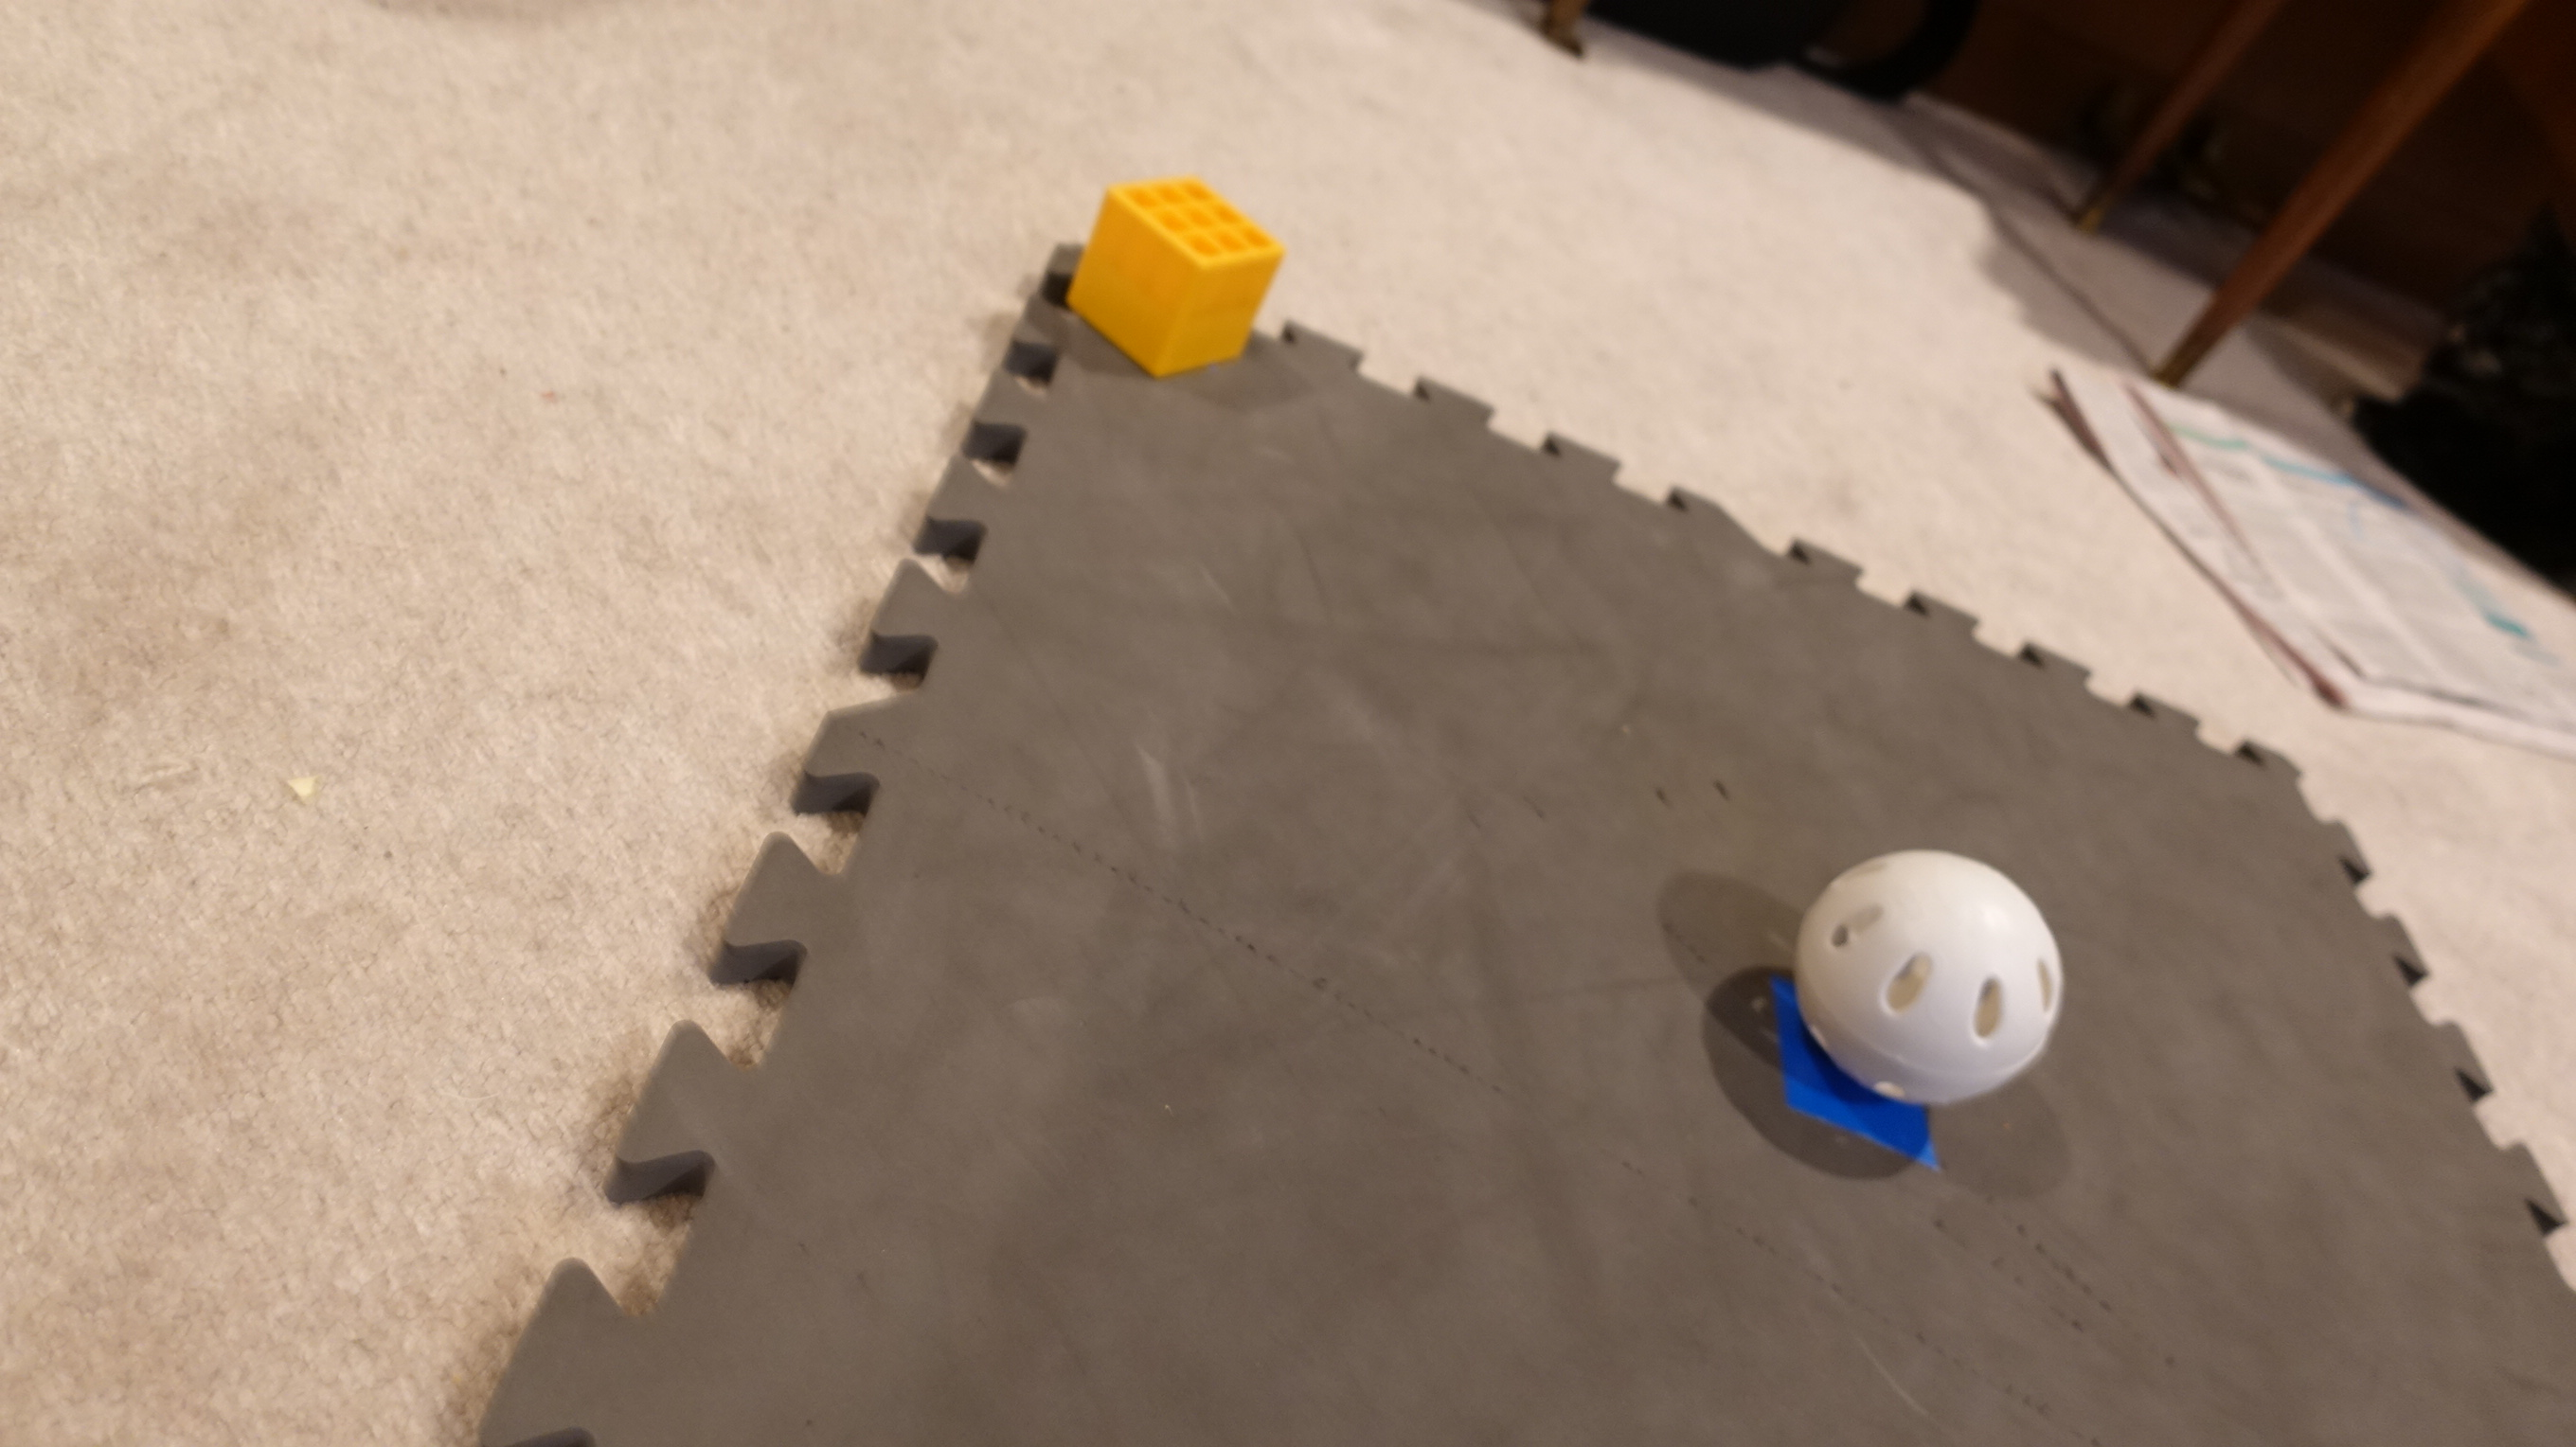gold: (1063, 177, 1288, 384)
silver: (1799, 840, 2070, 1107)
